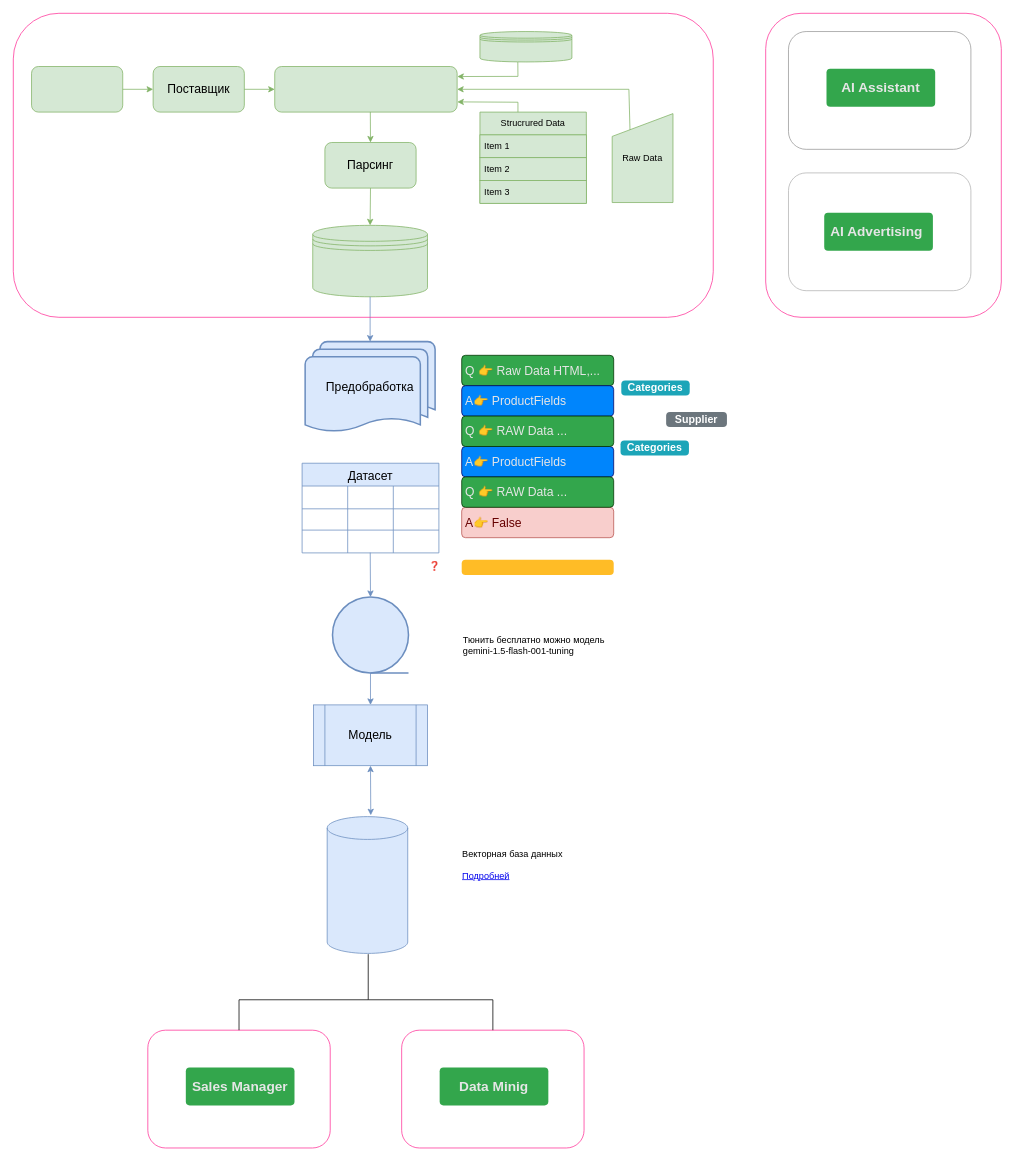
This 1015x1161 diagram has some shape labels left out. Each missing label, with the centre of its shape:
Каталогизация: point (370, 261)
Обучение Тюнинг: point (370, 634)
Правила локатора нужны?: point (537, 567)
Сбор данных: point (365, 89)
Сценарий: point (77, 89)
